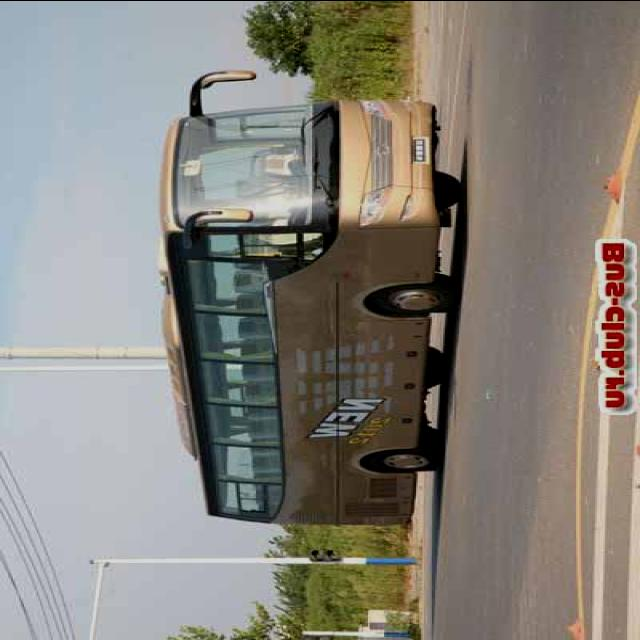bus: (160, 65, 472, 531)
